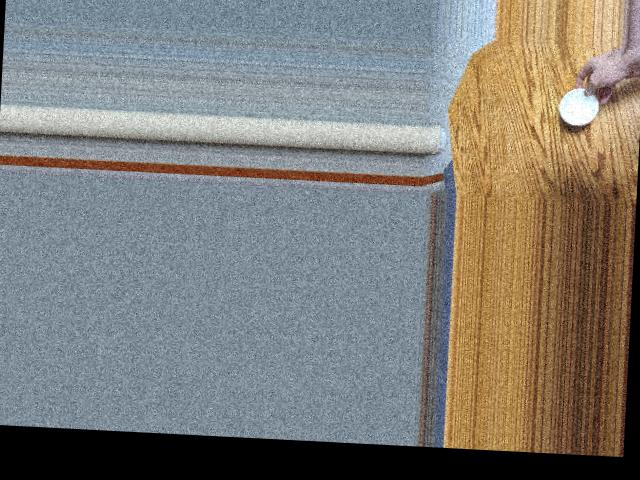cotage: (557, 80, 609, 128)
